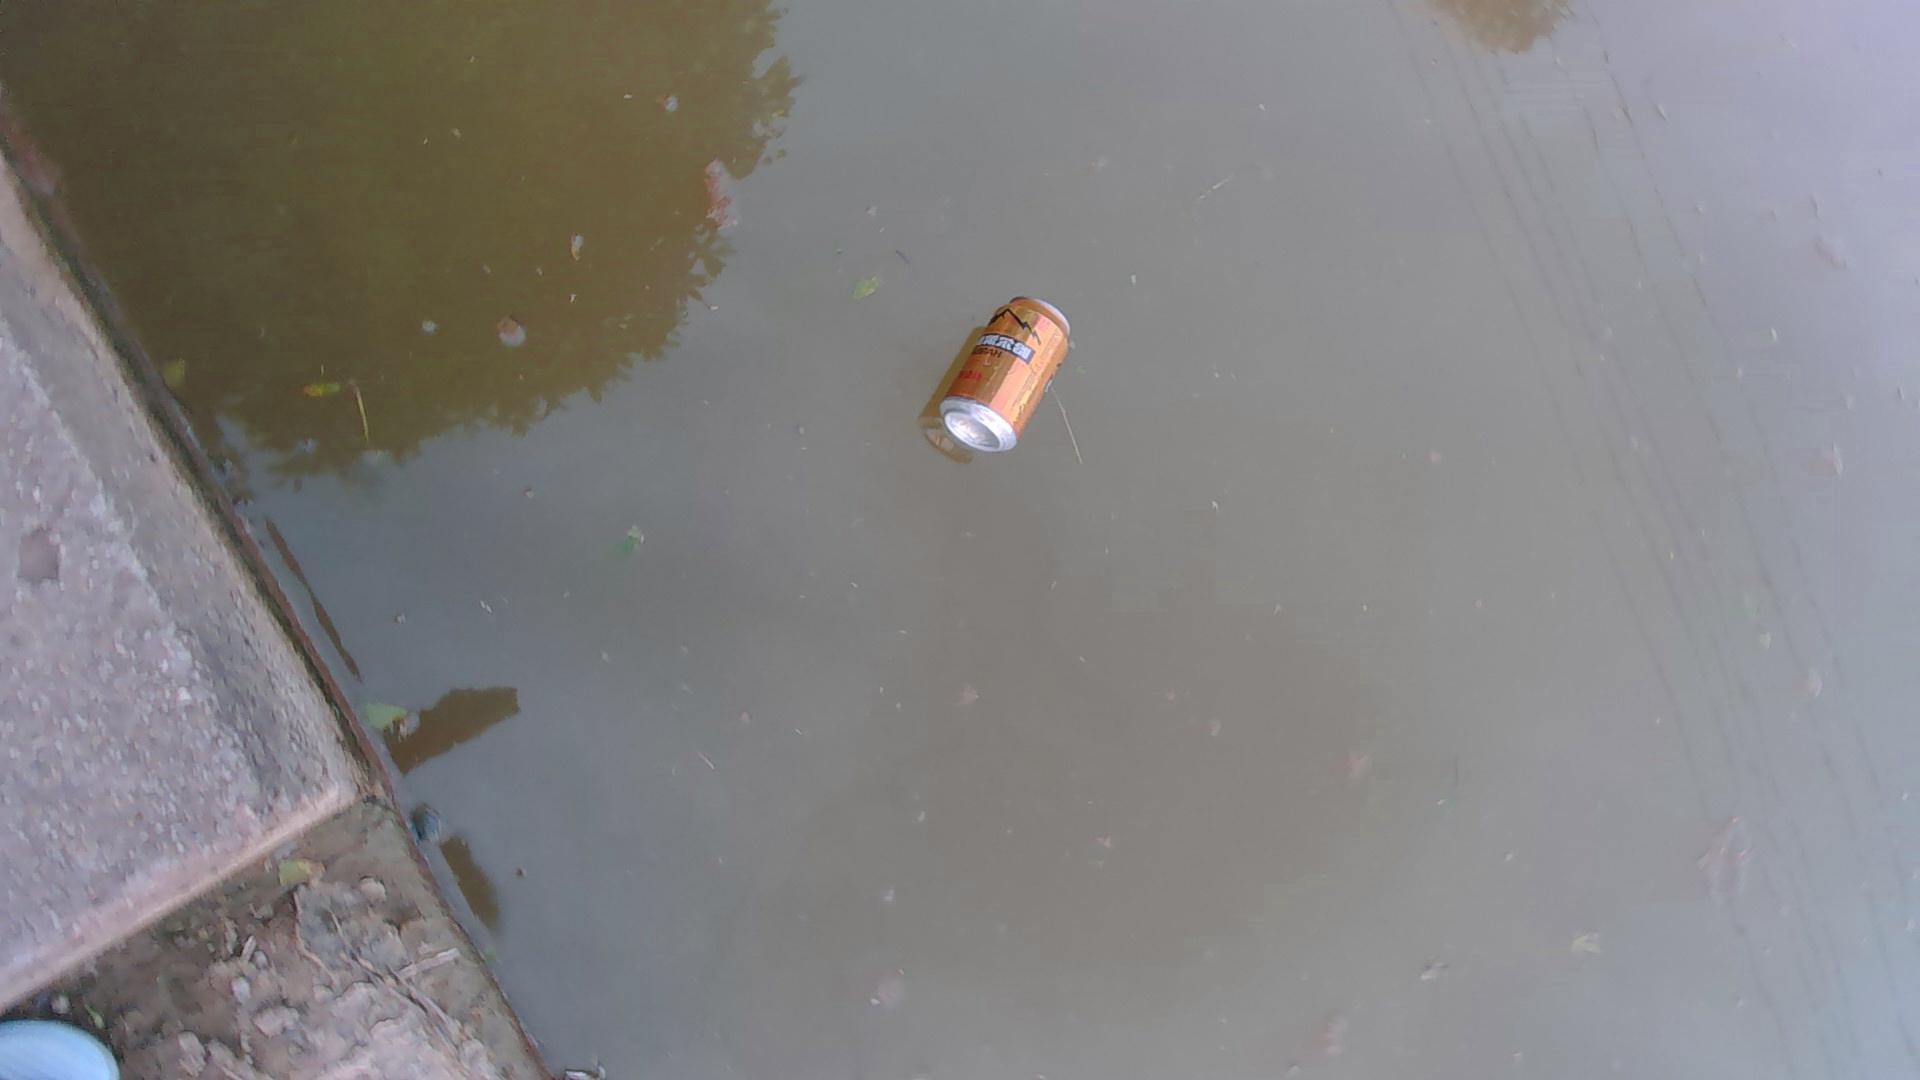Metal: (934, 290, 1083, 455)
